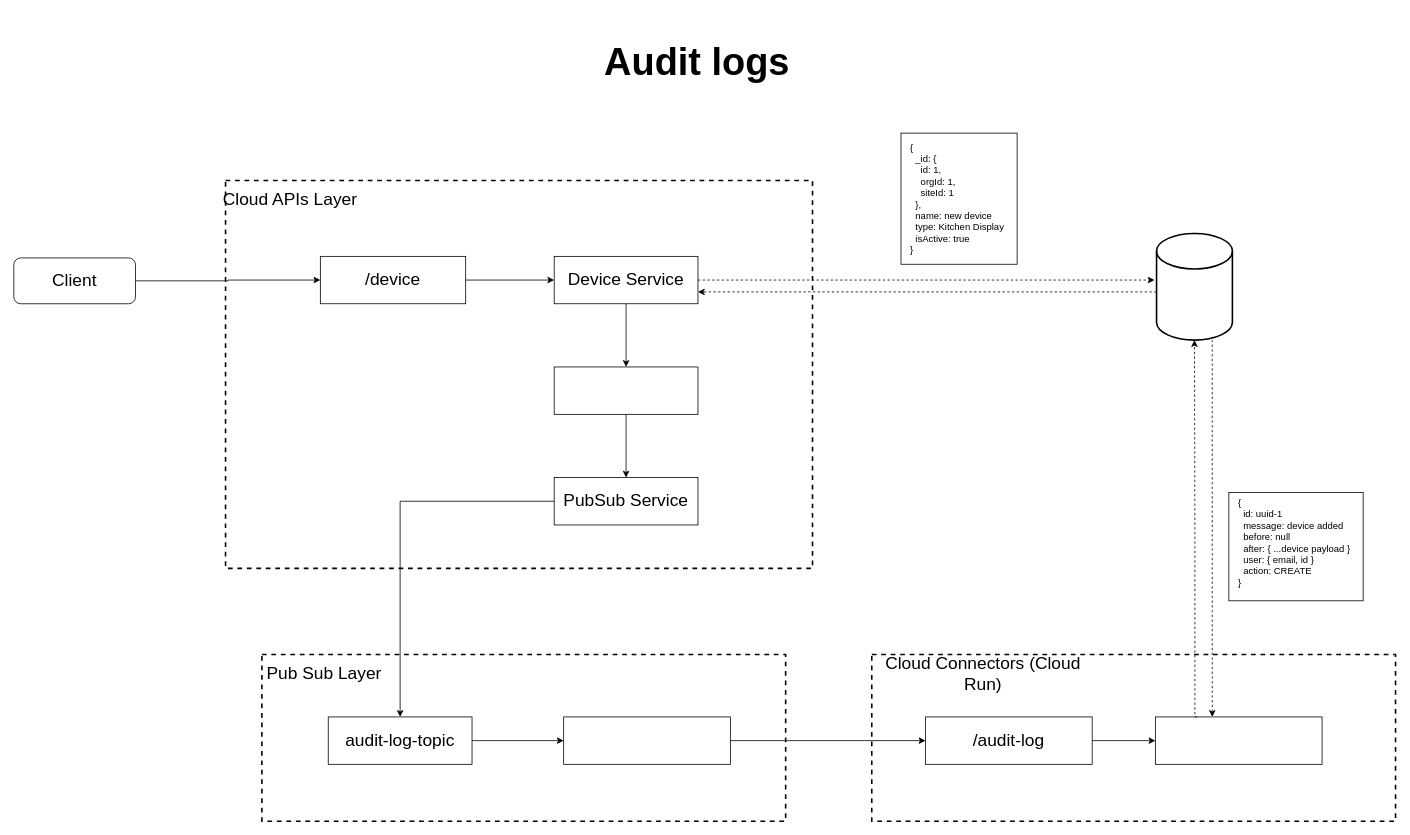
This 1410x835 diagram has some shape labels left out. Here are the shapes that lost their labels. From the top down, the centre of each, then its label:
At pixel 1194 286: "Ditto DB".
At pixel 625 390: "Audit Service".
At pixel 646 740: "audit-log-subscription".
At pixel 1238 740: "Audit Log Service".
